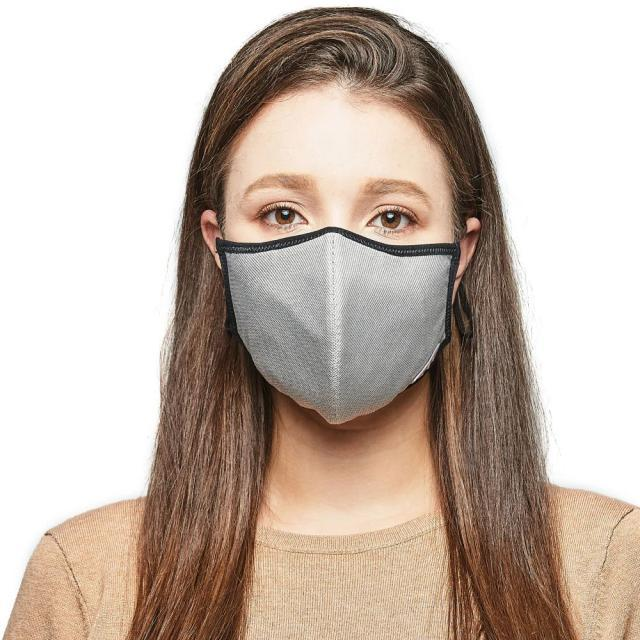1_mascarilla: (216, 228, 460, 424)
